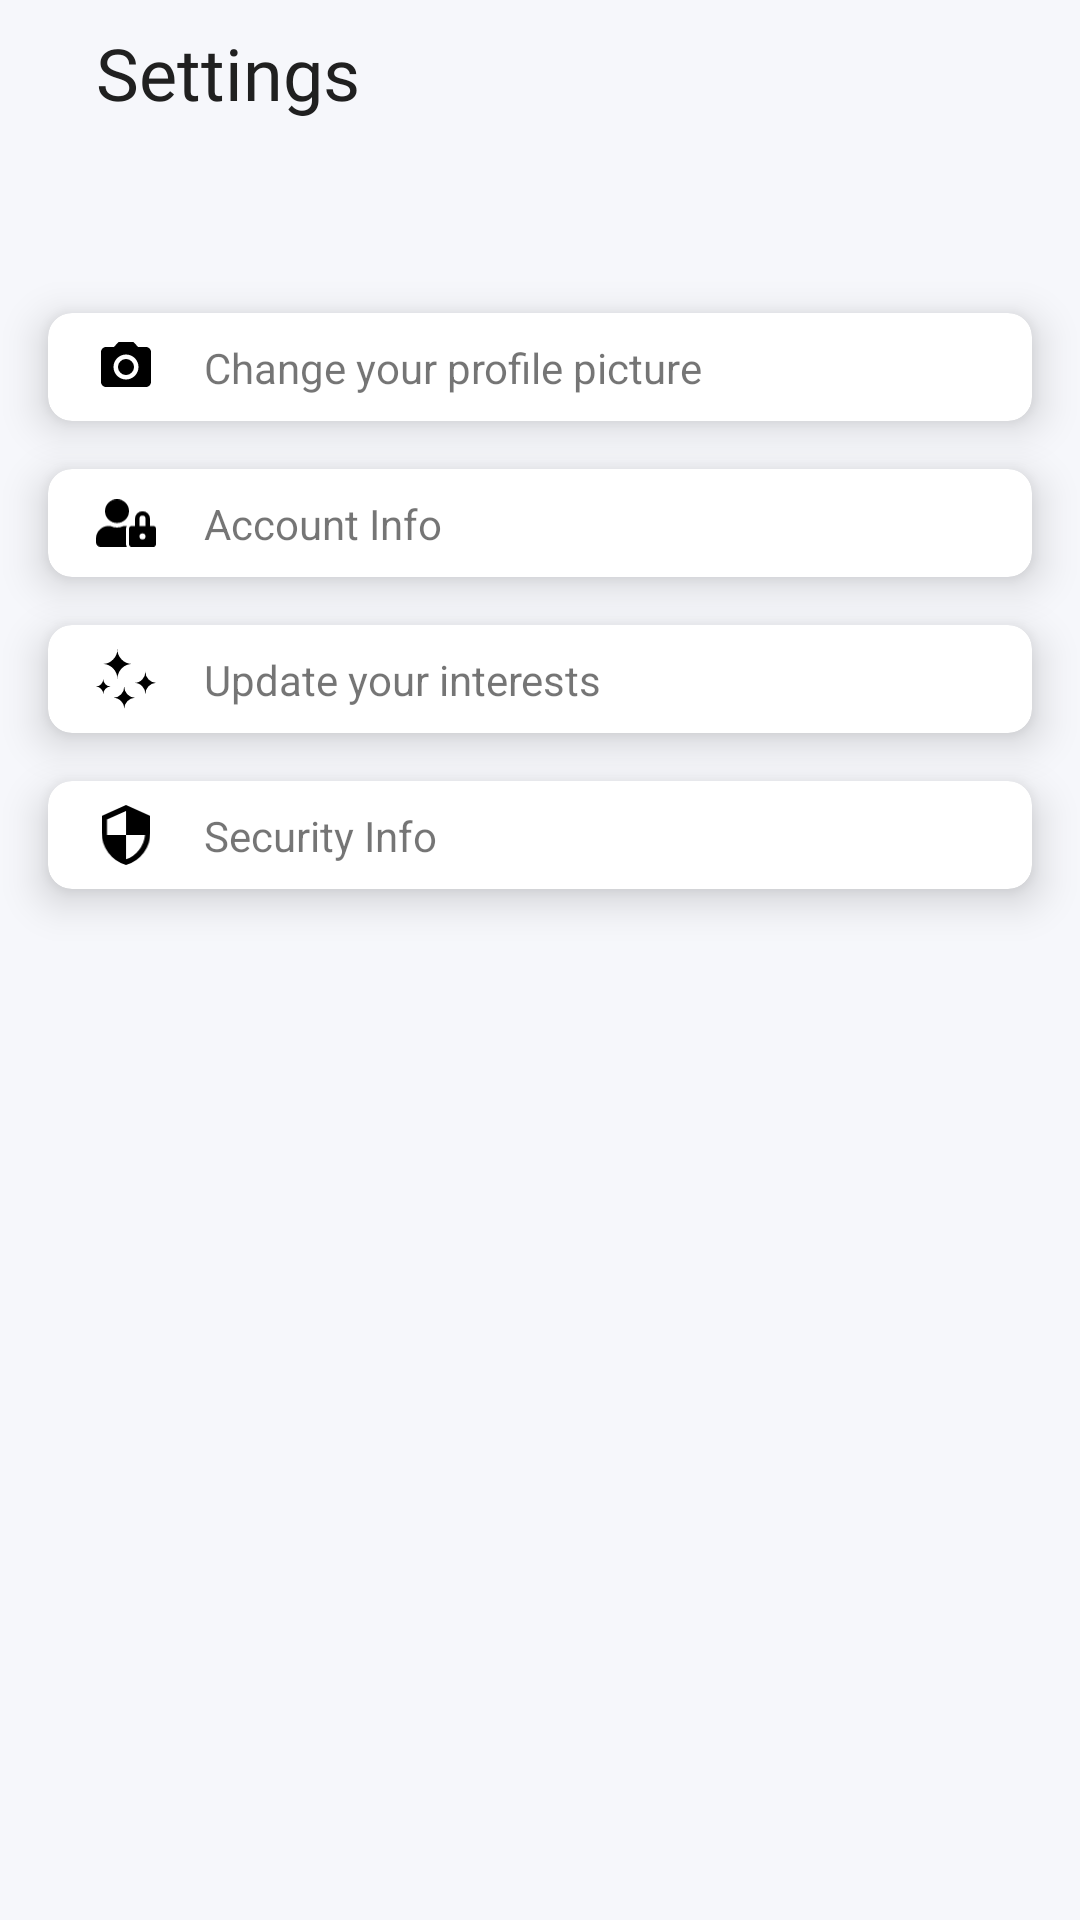

Icon bounding boxes for this 1080 x 1920 phone screenshot, format (x1, y1, x2, y2):
photo camera: (101, 342, 151, 387)
